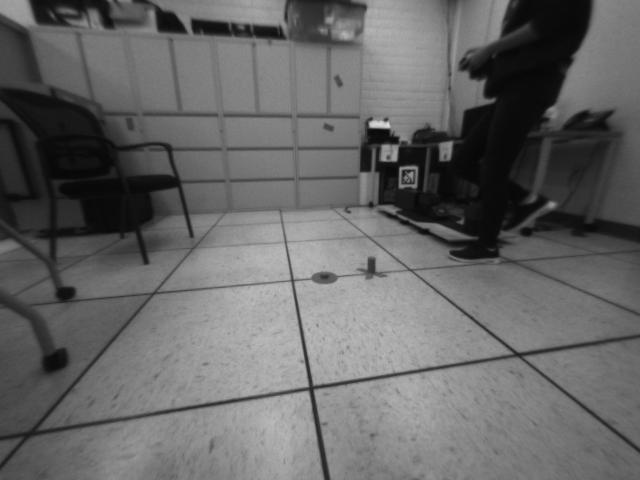X: (354, 255, 389, 281)
